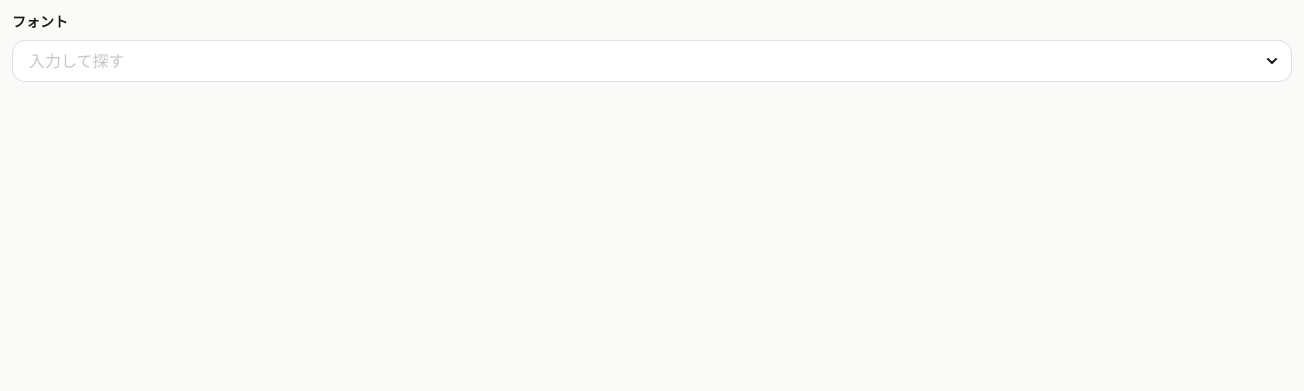
Test: draws a hundred matches at most, and counts the rest
Click the dropdown labelled "フォント" at coordinates (652, 61), box [12,40,1292,82]
(page scrolled)
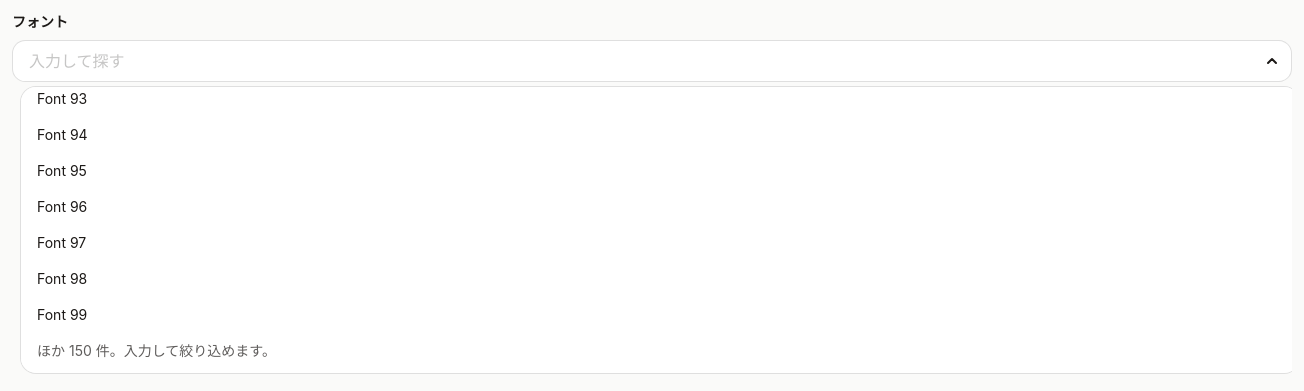
Check: the text "ほか 150 件。入力して絞り込めます。" is shown, box [37,342,276,359]
